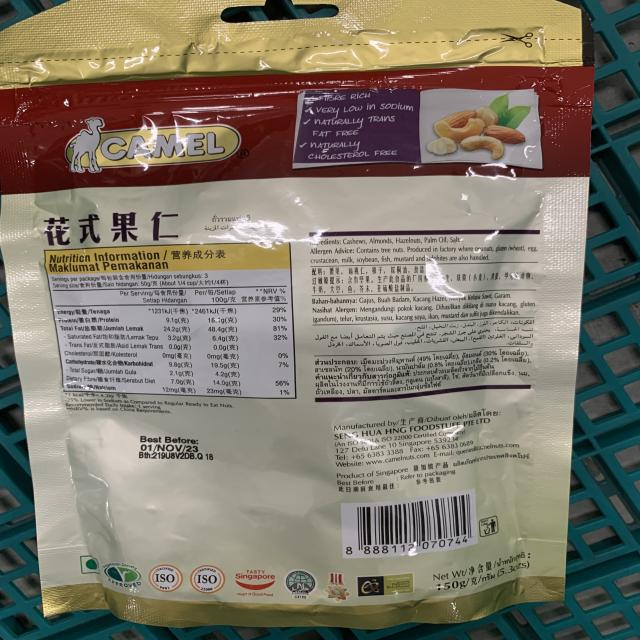object_name: (2, 3, 578, 609)
